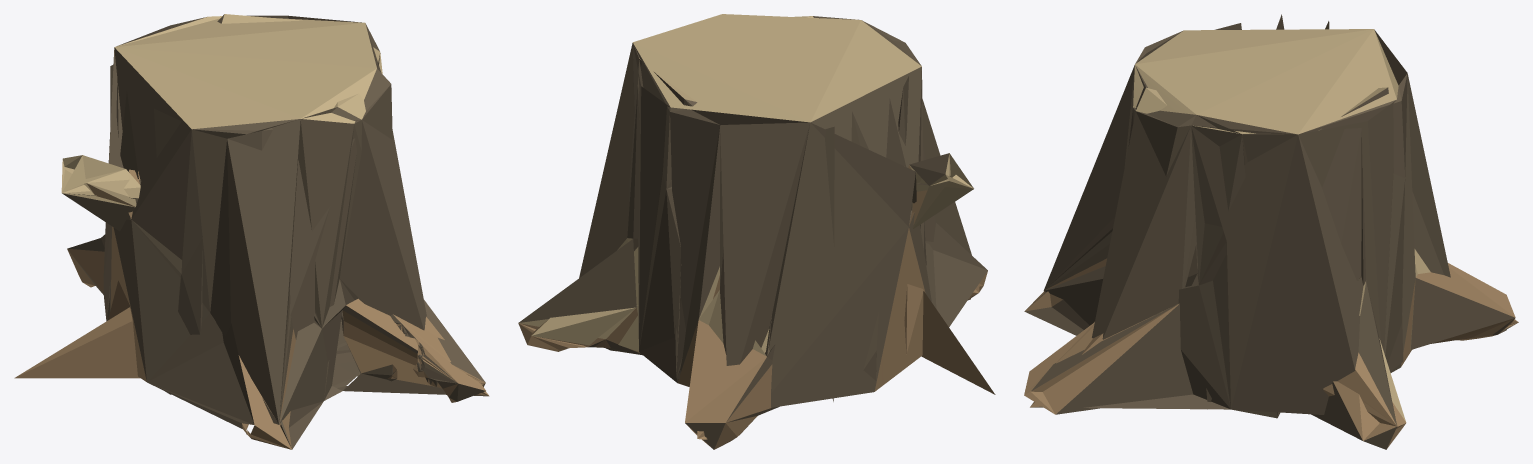
File: ENV_09_STUMP_game.glb
3 renders of one model, left to right at view 1: azimuth 30°, elevation 25°; view 2: azimuth 150°, elevation 25°; view 3: azimuth 270°, elevation 25°, orthographic.
Visible parts, largest first — view 1: ENV_09_STUMP; view 2: ENV_09_STUMP; view 3: ENV_09_STUMP.
Boxes of the visible parts, x1,y1,x2,y2 form: ENV_09_STUMP: [14, 14, 489, 449]; ENV_09_STUMP: [518, 14, 995, 449]; ENV_09_STUMP: [1024, 14, 1518, 449].
Size of the model in its own units: 1.16 by 0.75 by 1.17.
